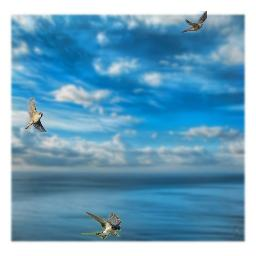Cuckoo: (181, 11, 207, 33)
Sparrow: (25, 97, 47, 132)
Swallow: (81, 211, 121, 239)
